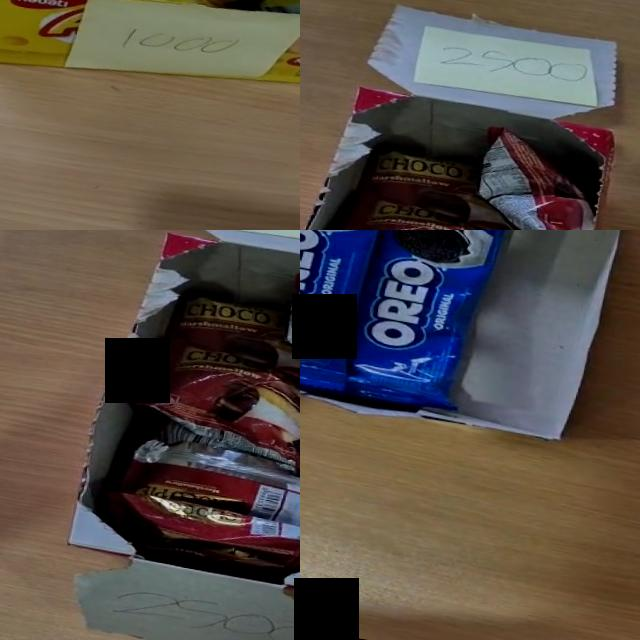Ahh: (70, 0, 220, 12)
Chocopie: (124, 336, 300, 483), (97, 489, 300, 595), (116, 429, 300, 539), (462, 124, 607, 230), (352, 144, 528, 230), (160, 290, 300, 381), (316, 190, 565, 230), (270, 270, 300, 426)
Oreo: (340, 230, 541, 420), (300, 230, 414, 397)
